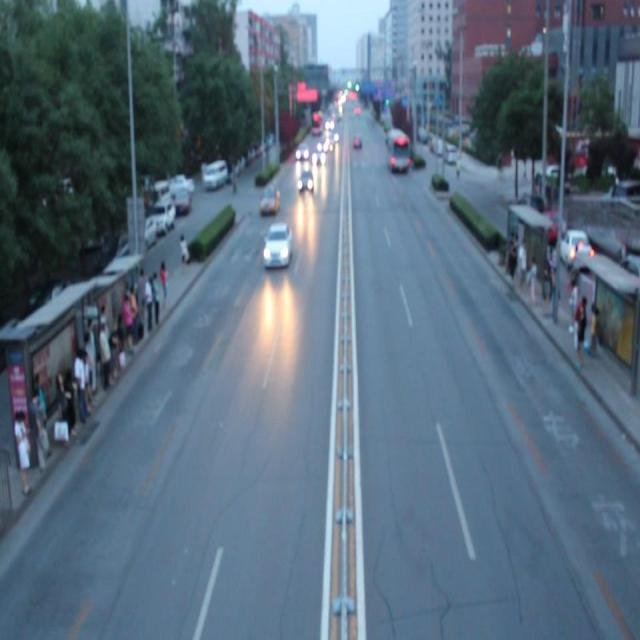car: (262, 223, 290, 270), (260, 185, 278, 213), (298, 169, 313, 192), (294, 143, 308, 159), (312, 149, 324, 166)
van: (384, 130, 408, 171)
